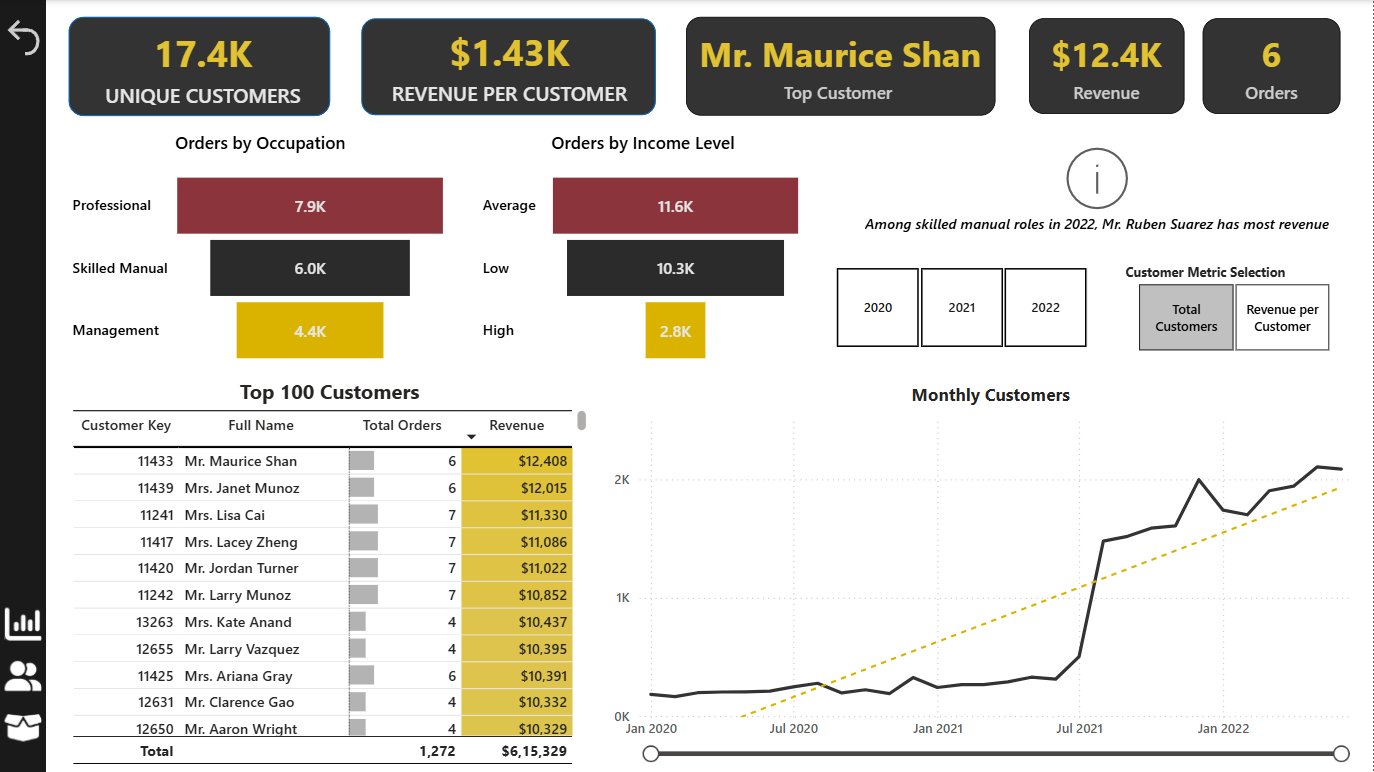

The dashboard page shown, as its layout file describes it:
{"tool":"powerbi","page":{"name":"Customer Insights","canvas":[1280,720],"ordinal":1},"visuals":[{"type":"shape","box":[0,0,42.9,720],"z":0},{"type":"shape","box":[63.6,16,243.9,92.6],"z":1000,"group":"g2"},{"type":"group","id":"g1","title":"KPI Backgrounds","box":[336.9,17.6,275.3,90.8],"z":1000},{"type":"shape","box":[336.9,17.6,274.8,90.6],"z":1000,"group":"g1"},{"type":"actionButton","box":[0,606.1,42.9,48.6],"z":1000,"group":"g3"},{"type":"card","fields":{"Values":["Measure Table.Average Revenue per Customer"]},"box":[355.9,16.1,237.3,89.3],"z":2000},{"type":"group","id":"g2","title":"KPI Backgrounds","box":[63.6,16,243.1,92.3],"z":3000},{"type":"actionButton","box":[0,654.6,42.9,48.6],"z":3000,"group":"g3"},{"type":"card","fields":{"Values":["Measure Table.Total Customers"]},"box":[87,16,203.6,92.3],"z":4000},{"type":"actionButton","box":[0,557.5,42.9,48.6],"z":4000,"group":"g3"},{"type":"funnel","title":"Orders by Income Level","fields":{"Category":["Customer Lookup.Income Level"],"Y":["Measure Table.Total Orders"]},"box":[445.2,121.6,309,234.3],"z":6000},{"type":"lineChart","title":"Monthly Customers","fields":{"Y":["Measure Table.Total Customers"],"Category":["Calendar Lookup.Date Hierarchy.Year","Calendar Lookup.Date Hierarchy.Start of Month","Calendar Lookup.Date Hierarchy.Start of Week","Calendar Lookup.Date Hierarchy.Date"]},"box":[568.3,355.9,711.8,357.4],"z":6500},{"type":"funnel","title":"Orders by Occupation","fields":{"Category":["Customer Lookup.Occupation"],"Y":["Measure Table.Total Orders"]},"box":[63,121.6,360.3,234.3],"z":7000},{"type":"tableEx","title":"Top 100 Customers","fields":{"Values":["Customer Lookup.CustomerKey","Customer Lookup.Full Name","Measure Table.Total Orders","Measure Table.Total Revenue"]},"box":[63,351.9,489.2,364.7],"z":8000},{"type":"card","fields":{"Values":["Measure Table.Total Orders"]},"box":[1120.6,17.5,128.9,89.3],"z":9000},{"type":"card","fields":{"Values":["Min(Customer Lookup.Full Name)"]},"box":[640,16,288.5,92.3],"z":10000},{"type":"card","fields":{"Values":["Measure Table.Total Revenue"]},"box":[959.5,17.5,145,89.3],"z":11000},{"type":"slicer","fields":{"Values":["Calendar Lookup.Year"]},"box":[754.3,243.1,282.7,87.9],"z":12000},{"type":"actionButton","box":[785,105.5,478.9,139.1],"z":13000},{"type":"slicer","fields":{"Values":["Customer Metric Selection.Customer Metric Selection"]},"box":[1037,240.2,227,93.7],"z":13500},{"type":"actionButton","box":[0,10.3,43.9,48.3],"z":14000},{"type":"group","id":"g3","title":"Page Navigators","box":[0,557.5,42.5,145.8],"z":15000}]}

Visuals, with their boxes on the page's 1280x720 design canvas (x1, y1, x2, y2). These are canvas units, not pixel positions in the 1374x772 screenshot, which may show the page scaled, cropped or inside an application window:
shape: region(0, 0, 43, 720)
shape: region(64, 16, 308, 109)
"KPI Backgrounds" group: region(337, 18, 612, 108)
shape: region(337, 18, 612, 108)
actionButton: region(0, 606, 43, 655)
card - Measure Table.Average Revenue per Customer: region(356, 16, 593, 105)
"KPI Backgrounds" group: region(64, 16, 307, 108)
actionButton: region(0, 655, 43, 703)
card - Measure Table.Total Customers: region(87, 16, 291, 108)
actionButton: region(0, 558, 43, 606)
"Orders by Income Level" funnel: region(445, 122, 754, 356)
"Monthly Customers" lineChart: region(568, 356, 1280, 713)
"Orders by Occupation" funnel: region(63, 122, 423, 356)
"Top 100 Customers" tableEx: region(63, 352, 552, 717)
card - Measure Table.Total Orders: region(1121, 18, 1250, 107)
card - Min(Customer Lookup.Full Name): region(640, 16, 928, 108)
card - Measure Table.Total Revenue: region(960, 18, 1104, 107)
slicer - Calendar Lookup.Year: region(754, 243, 1037, 331)
actionButton: region(785, 106, 1264, 245)
slicer - Customer Metric Selection.Customer Metric Selection: region(1037, 240, 1264, 334)
actionButton: region(0, 10, 44, 59)
"Page Navigators" group: region(0, 558, 42, 703)
